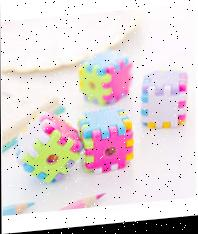cube: (15, 110, 82, 188), (82, 107, 135, 179)
